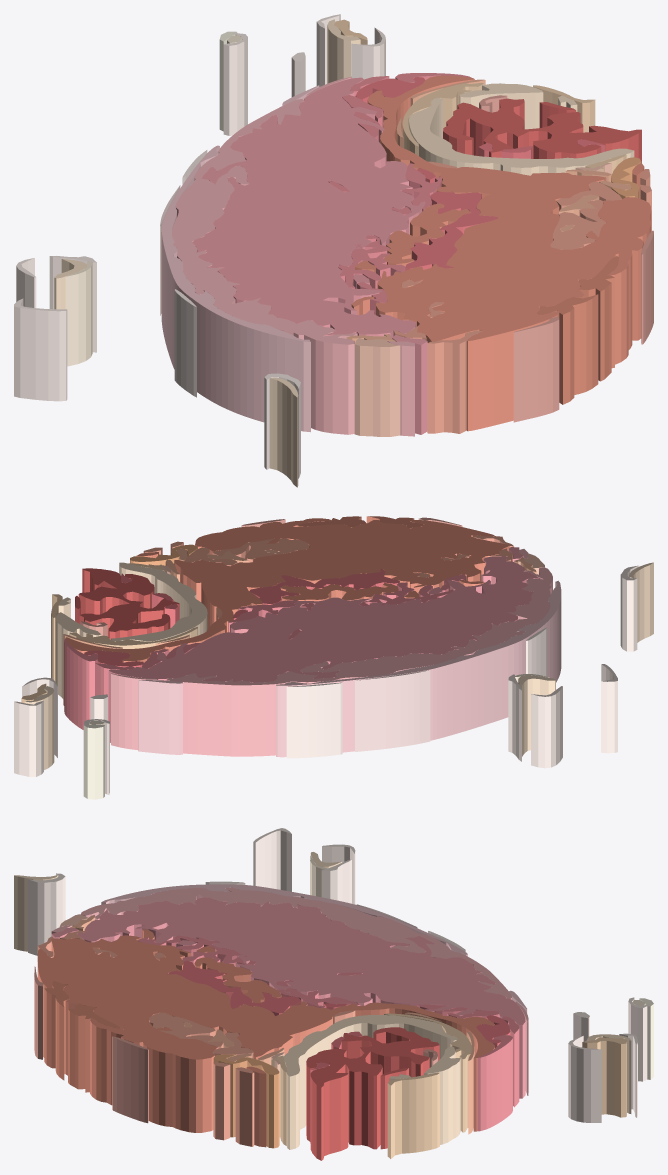
File: donut.glb
3 views of the same model, one above another, from view 1: azimuth 30°, elevation 25°; view 2: azimuth 150°, elevation 25°; view 3: azimuth 270°, elevation 25° (orthographic). The views are drawn at different scales.
Visible parts, largest first — view 1: Node4, Node1, Node9, Node54, Node36, Node45, Node73, Node70, Node38, Node64, Node29, Node42 (+24 smaller); view 2: Node1, Node4, Node9, Node54, Node69, Node36, Node47, Node55, Node38, Node49, Node51, Node15 (+23 smaller); view 3: Node4, Node1, Node36, Node9, Node38, Node67, Node15, Node71, Node50, Node44, Node66, Node45 (+27 smaller).
Boxes of the visible parts, x1,y1,x2,y2 form: Node4: (367,75,651,431); Node1: (192,77,425,338); Node9: (172,99,357,434); Node54: (161,145,310,432); Node36: (443,98,641,162); Node45: (14,298,67,401); Node73: (354,335,400,436); Node70: (513,316,559,422); Node38: (409,97,634,175); Node64: (537,294,598,404); Node29: (427,330,482,433); Node42: (269,377,298,487); Node1: (108,556,540,742); Node4: (65,518,509,662); Node9: (167,567,552,756); Node54: (276,580,561,757); Node69: (355,670,430,751); Node36: (78,568,179,639); Node47: (286,682,342,758); Node55: (138,680,182,754); Node38: (111,562,207,641); Node49: (531,686,562,768); Node51: (14,700,43,776); Node15: (64,638,98,729); Node4: (37,935,494,1132); Node1: (77,897,525,1098); Node36: (306,1027,439,1160); Node9: (81,888,511,999); Node38: (283,1015,458,1149); Node67: (387,1072,439,1158); Node15: (477,1035,512,1131); Node71: (112,1036,148,1123); Node50: (568,1036,601,1122); Node44: (28,873,65,955); Node66: (582,1037,626,1117); Node45: (253,828,291,891).
Bounding box in the file's own units: 2.98 × 0.3937 × 3.11.
